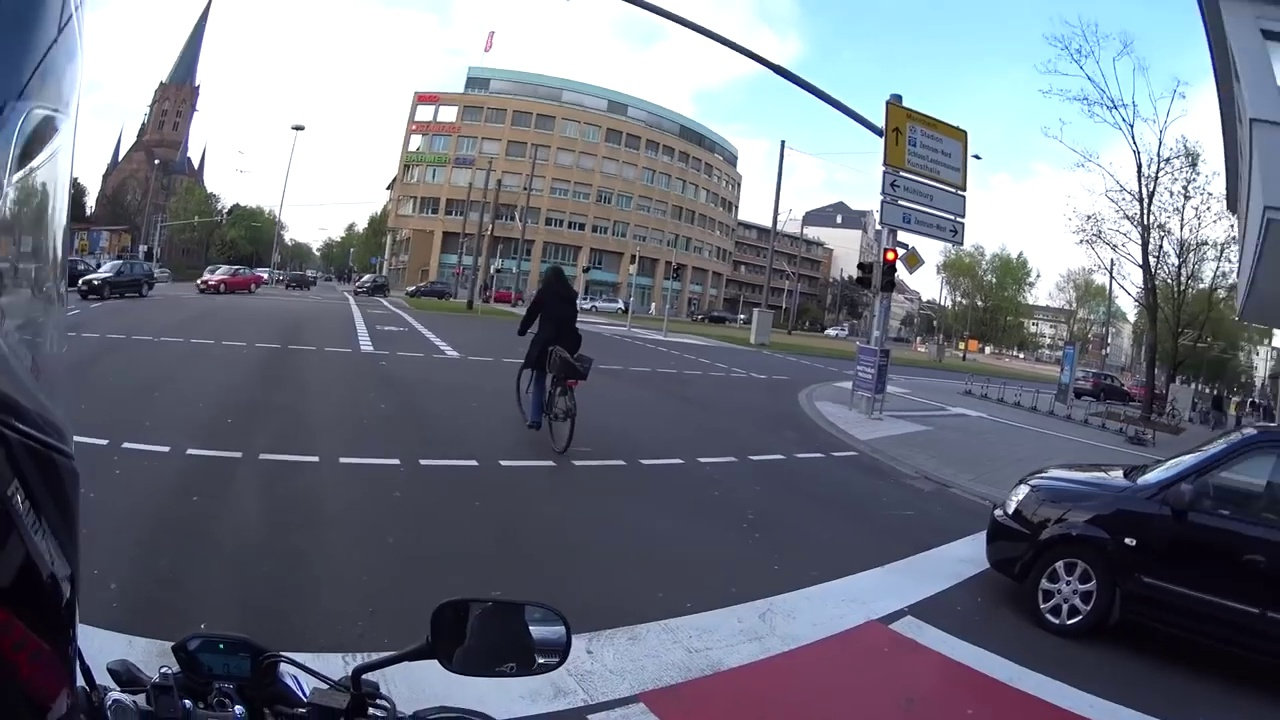cyclist_back: (510, 255, 602, 460)
